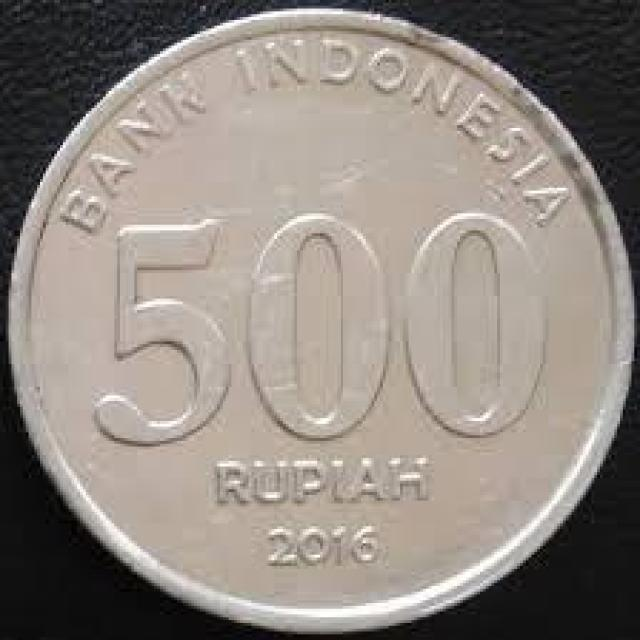500-silver: (14, 5, 637, 640)
